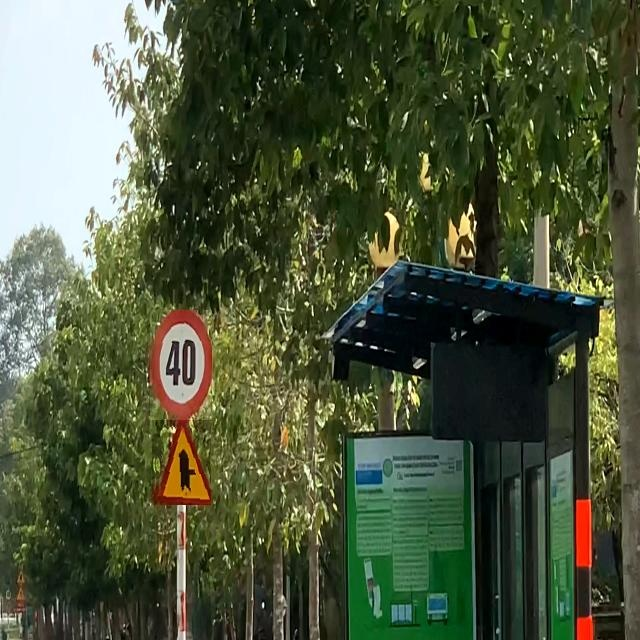bien_nguy_hiem: (150, 310, 212, 420), (152, 418, 211, 505)
